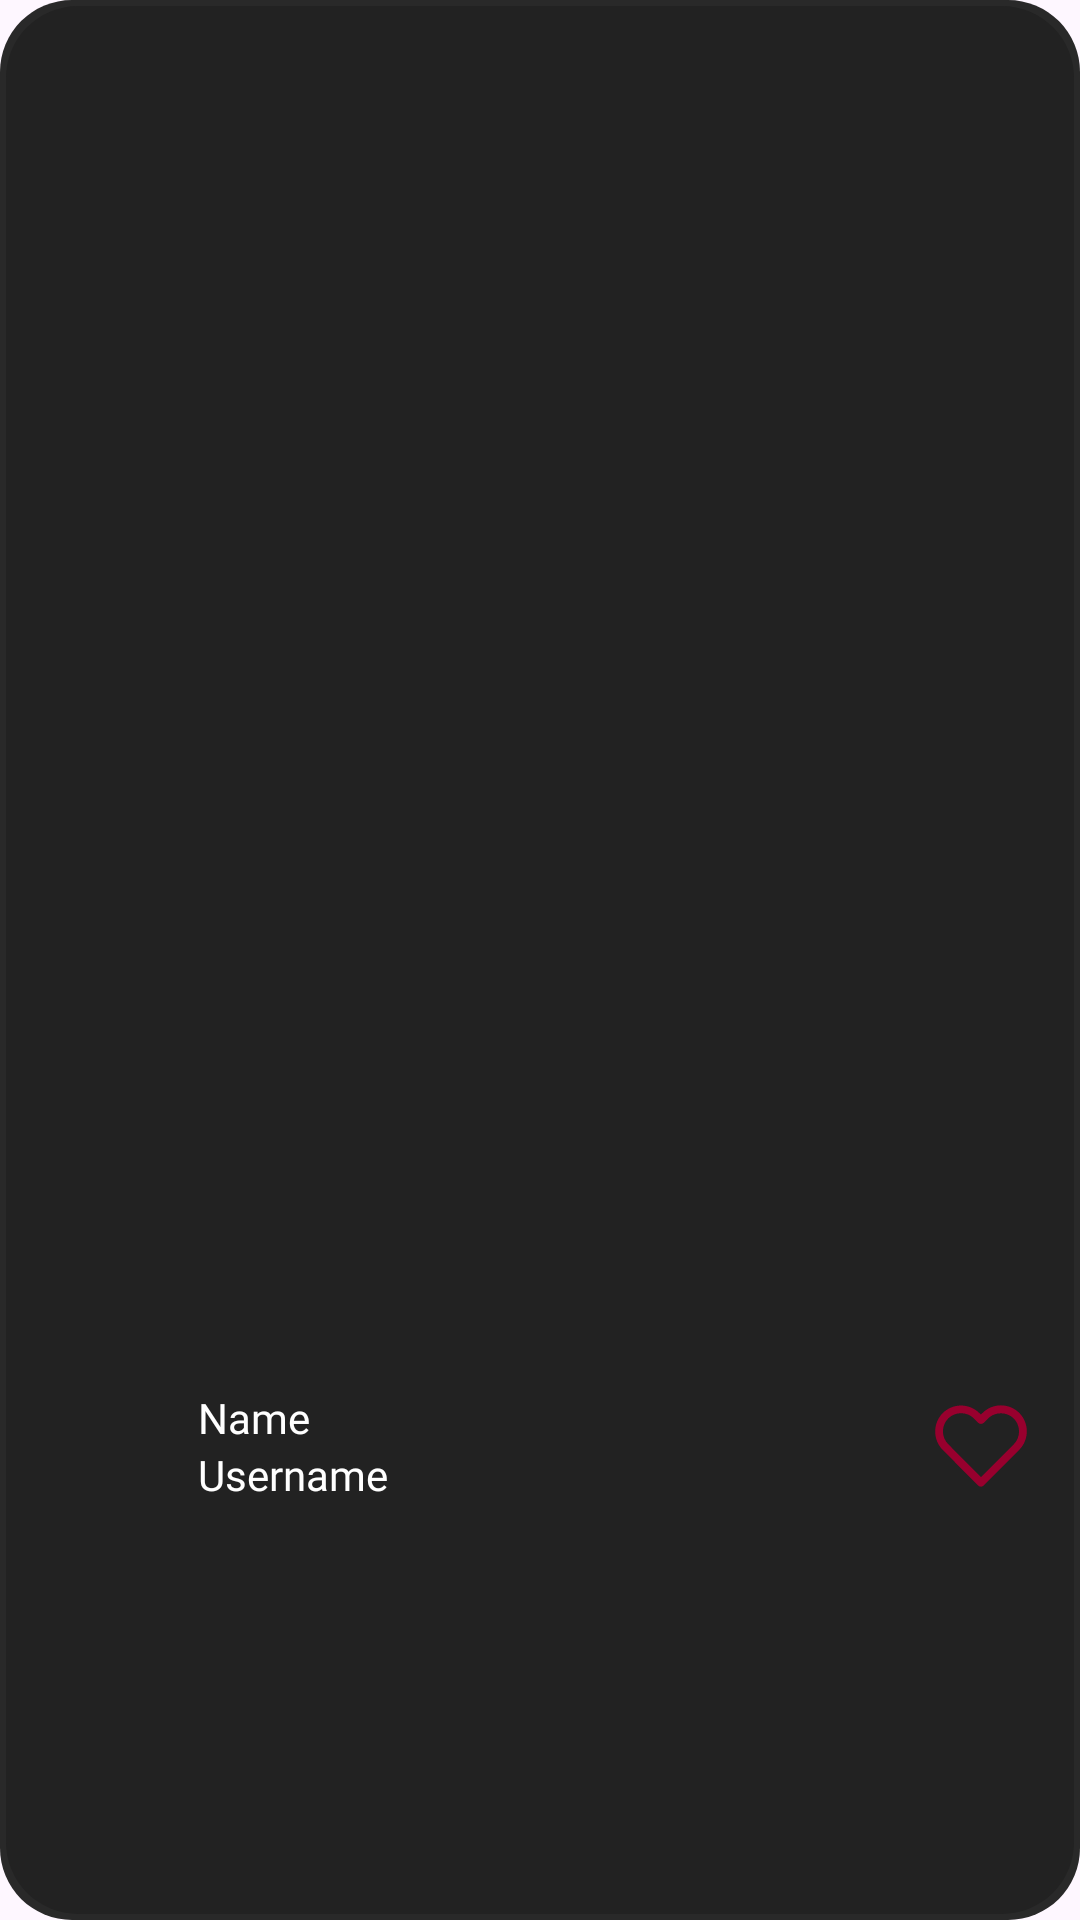

Screen size 1080 x 1920. Icon name, then its center in pixels as (x=x, y=y):
heart: (x=981, y=1446)
